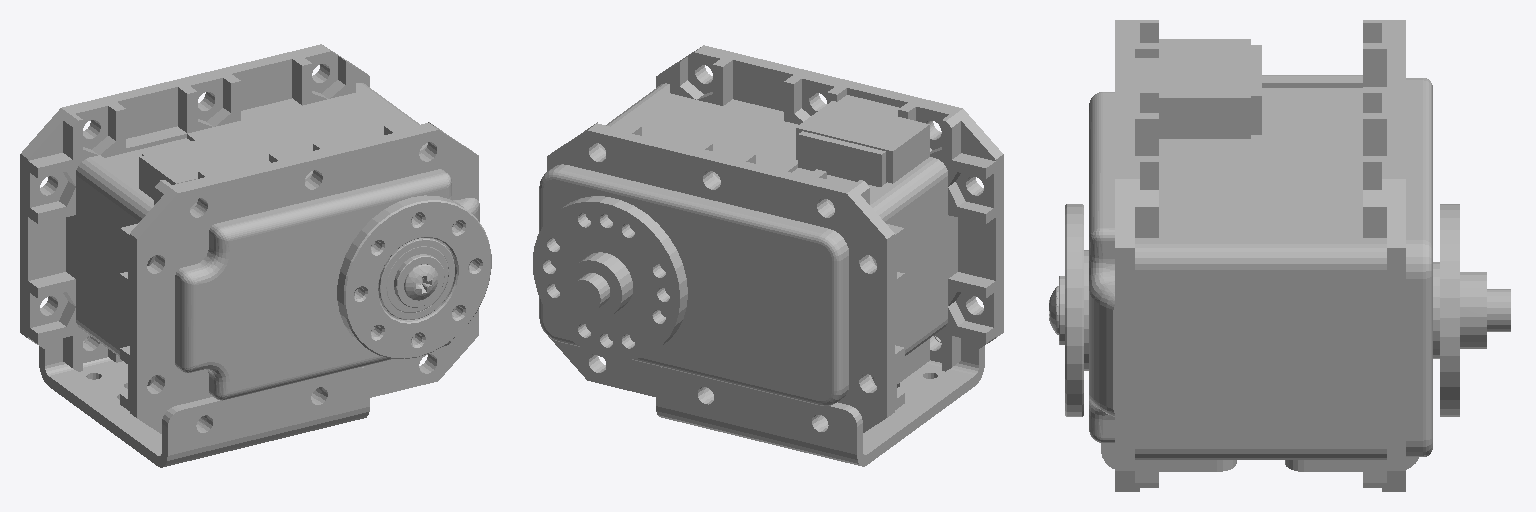
robot.urdf — root:
<?xml version='1.0' encoding='utf-8'?>
<robot name="root">
  <link name="link_001">
    <visual>
      <origin xyz="0 0 0" rpy="0 0 0" />
      <geometry>
        <mesh filename="67d9d0da0796b8a35590dce0a082c347b3161a72571ac59b1cf6d842a7a90fb3_scale_198.stl" scale="1.0000E+00 1.0000E+00 1.0000E+00" />
      </geometry>
      <material name="">
        <color rgba="7.50E-01 7.50E-01 7.50E-01 1" />
      </material>
    </visual>
    <collision>
      <origin xyz="0 0 0" rpy="0 0 0" />
      <geometry>
        <mesh filename="67d9d0da0796b8a35590dce0a082c347b3161a72571ac59b1cf6d842a7a90fb3_scale_198.stl" scale="1.0000E+00 1.0000E+00 1.0000E+00" />
      </geometry>
    </collision>
  </link>
</robot>

--- Facts derived from the render (not from the file) ---
Views: 3 orthographic renders of the robot side by side, from view 1: azimuth 30°, elevation 25°; view 2: azimuth 150°, elevation 25°; view 3: azimuth 270°, elevation 25°.
Robot: root — 1 links, 0 joints (none); root link link_001; default pose: every joint at zero.
Links seen in each view (by area): view 1: link_001; view 2: link_001; view 3: link_001.
Boxes of the visible links, x1,y1,x2,y2 form: link_001: (20,44,491,467); link_001: (533,45,1003,466); link_001: (1049,20,1510,491).
Bounding box of the posed robot: 0.1 × 0.0944 × 0.0761 m (x, y, z).
1 mesh visuals loaded from 1 distinct referenced files (1 binary STL).
